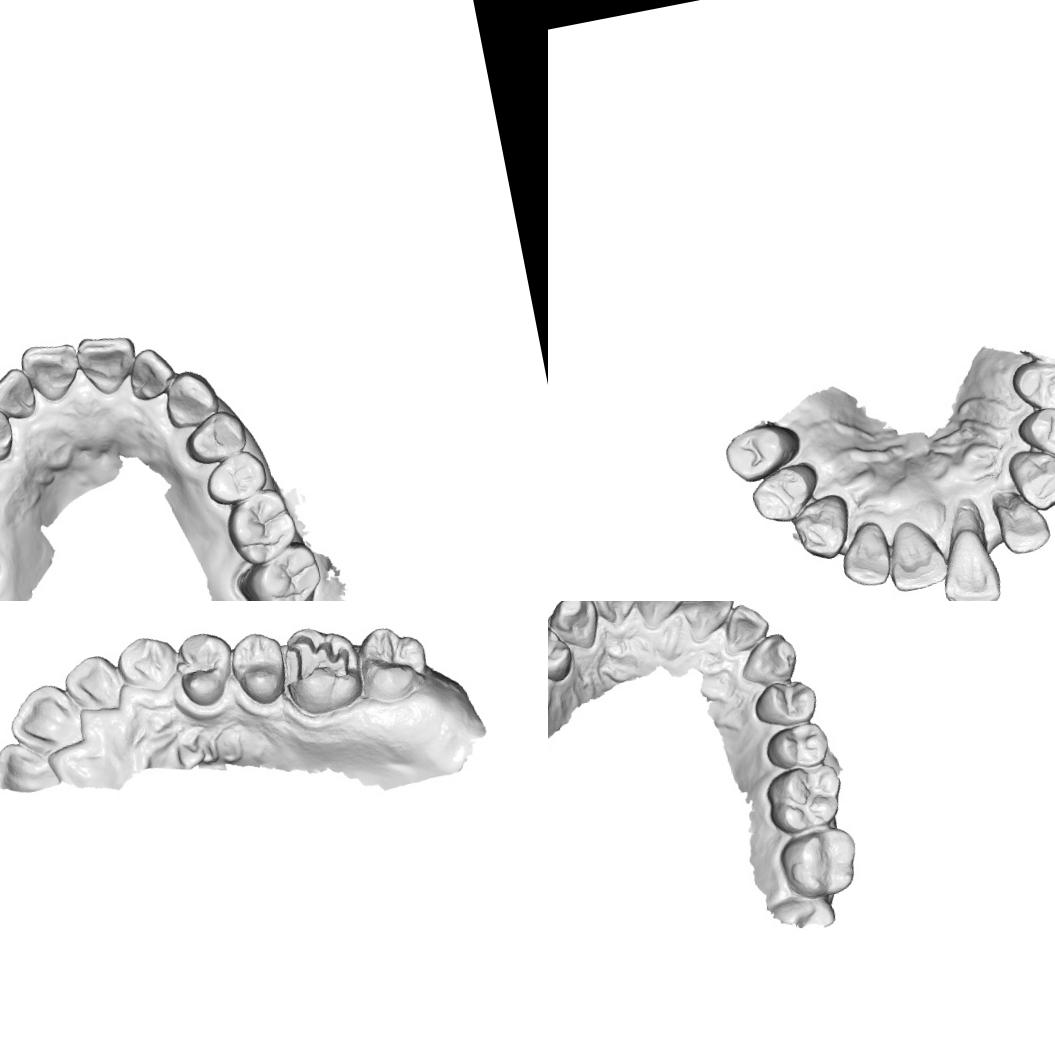canine: (787, 490, 857, 565), (110, 628, 182, 700), (158, 364, 222, 432), (733, 628, 802, 690), (1004, 440, 1055, 515), (548, 601, 604, 655), (0, 401, 17, 467)
incisor: (927, 497, 1006, 601), (1, 677, 86, 762), (880, 513, 950, 594), (69, 327, 142, 400), (988, 480, 1055, 558), (17, 334, 86, 407), (59, 649, 130, 718), (833, 518, 895, 592), (0, 732, 61, 799), (122, 342, 181, 404), (716, 601, 774, 656), (675, 601, 741, 644), (0, 361, 40, 424), (629, 601, 695, 632), (588, 601, 643, 629)
inlay: (278, 625, 356, 690)
molar: (774, 820, 866, 905), (350, 617, 435, 707), (219, 481, 303, 570), (760, 758, 850, 837), (229, 535, 327, 601)
premolar: (166, 624, 239, 712), (224, 625, 294, 711), (719, 417, 806, 486), (746, 458, 825, 528), (180, 405, 251, 468), (747, 673, 822, 732), (200, 446, 270, 508), (760, 716, 832, 776), (1007, 352, 1055, 417), (1015, 398, 1055, 462), (548, 618, 577, 690)
